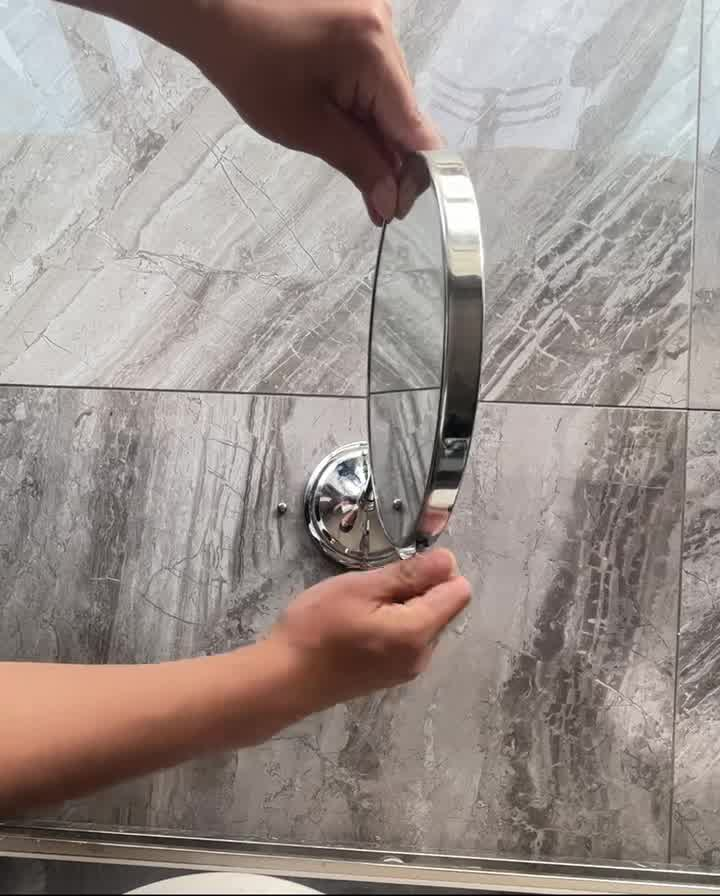base: (308, 443, 428, 573)
mirror: (367, 149, 493, 564)
screw: (269, 494, 296, 515)
